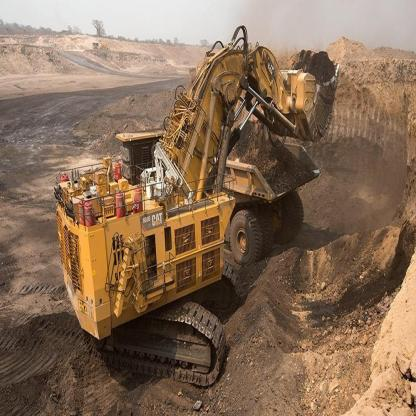excavator: (46, 33, 346, 399)
